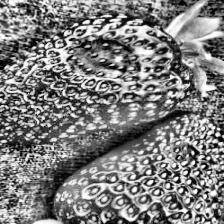Anthracnose Fruit Rot: (64, 36, 137, 82), (161, 138, 203, 168)
